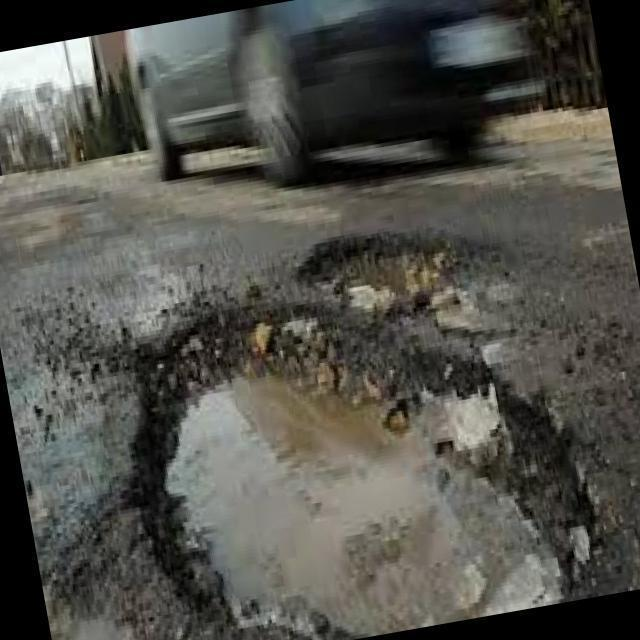pothole: (113, 297, 592, 640), (304, 226, 468, 302)
